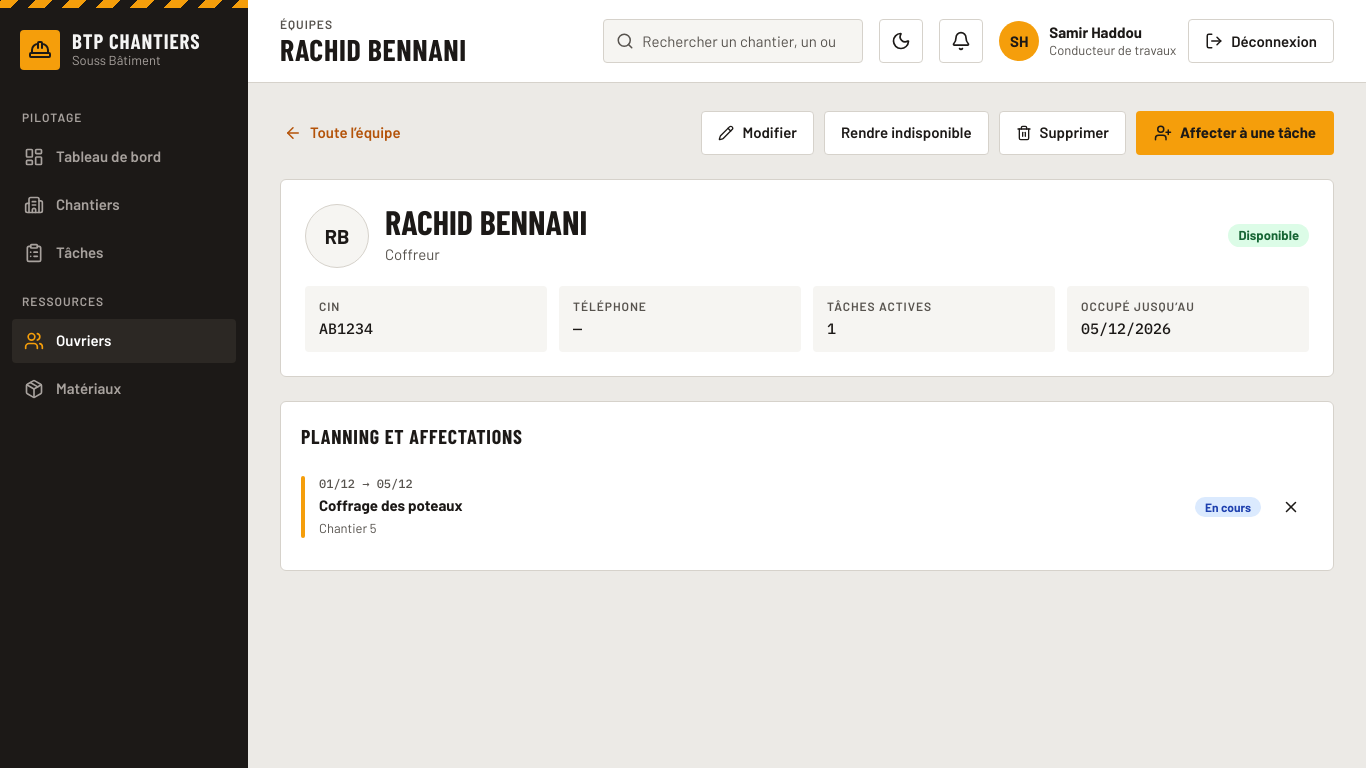
Test case: Suppression depuis la fiche (API réelle) › 204 : l’ouvrier est supprimé et la page revient à l’équipe (sa fiche répond ensuite 404)
The image size is (1366, 768).
What coordinates should you click on to do the following:
click the button "Supprimer"
I would click on:
 (1062, 132)
Its box is [998,110,1126,154].
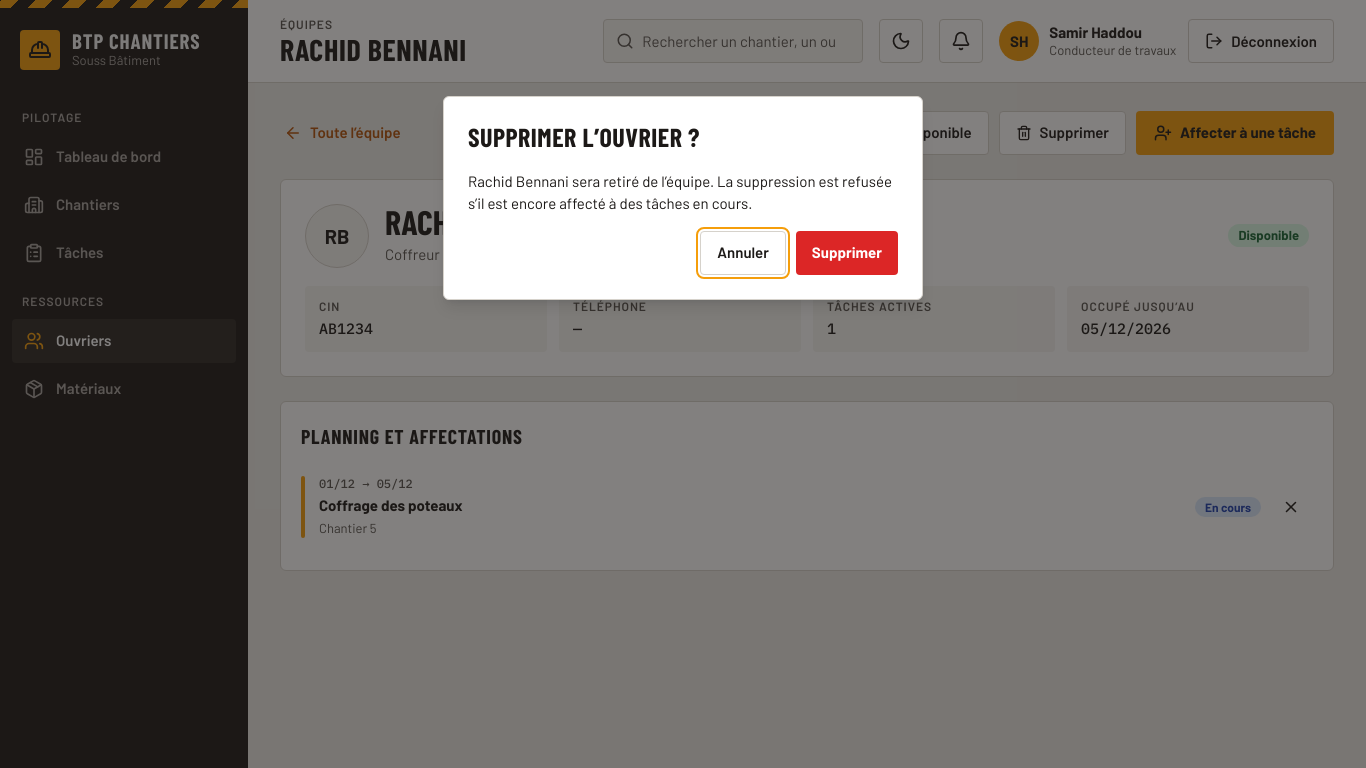
What coordinates should you click on to do the following:
click the button "Supprimer"
I would click on:
 (847, 252)
Its box is [796,230,898,274].
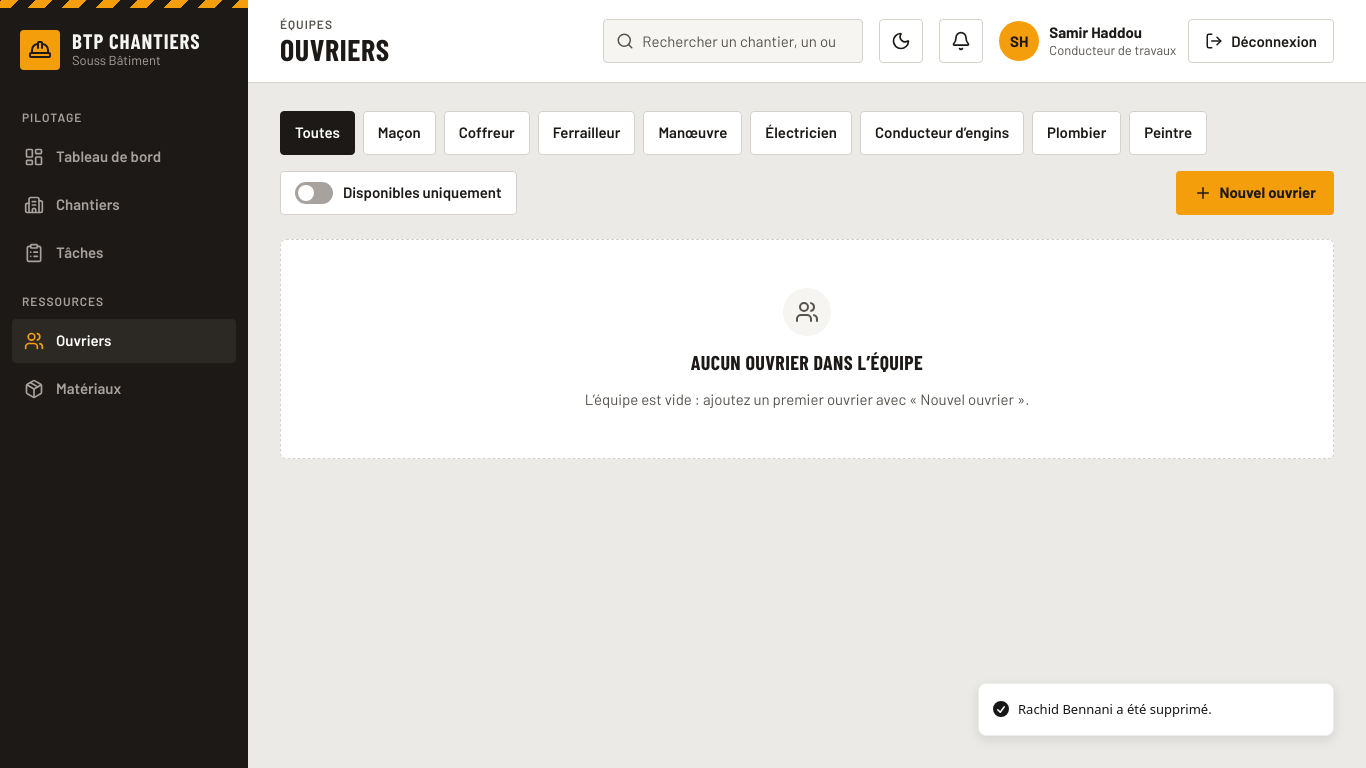
expect the text "Rachid Bennani a été supprimé." is shown: met, box [1018,700,1212,719]
expect the heading "Ouvriers" is shown: met, box [280,31,390,67]
expect the heading "Aucun ouvrier dans l’équipe" is shown: met, box [691,348,923,376]
